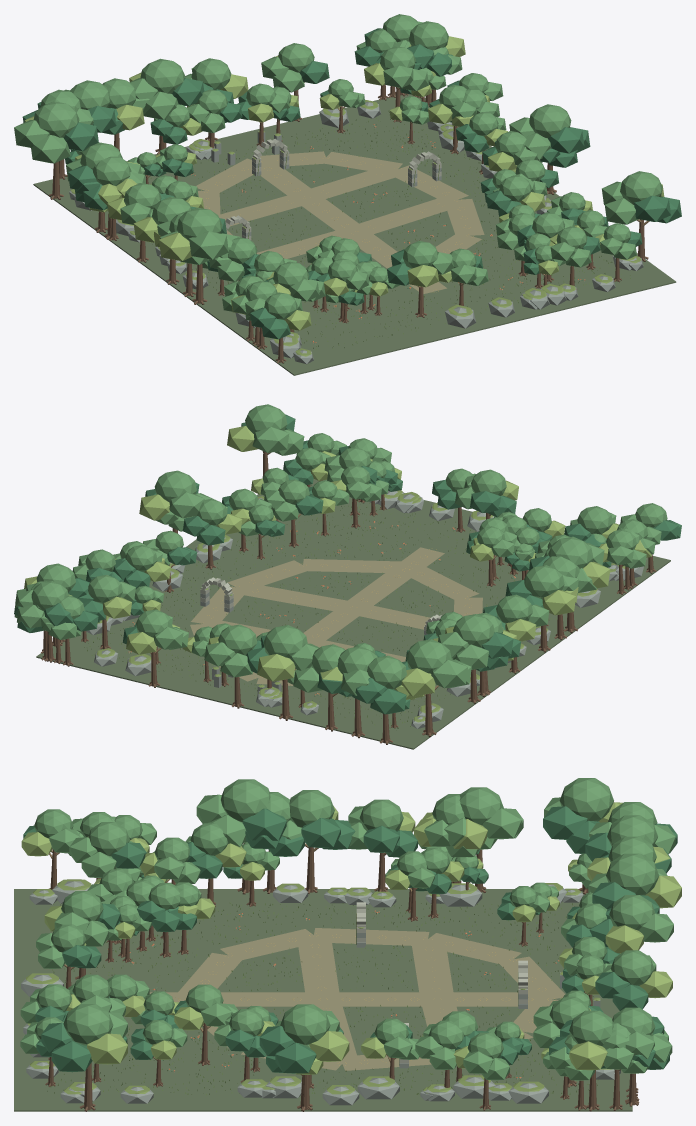
Rendered from forest-arena.glb.
3 views of the same model, one above another, from view 1: azimuth 30°, elevation 25°; view 2: azimuth 150°, elevation 25°; view 3: azimuth 270°, elevation 25° (orthographic). The views are drawn at different scales.
Parts seen in each view (by area): view 1: Woodland_leaves, Woodland_earth, Woodland_leaves_dark, Woodland_path, Woodland_leaves_sun, Woodland_stone, Woodland_bark, Woodland_moss, Woodland_grass, Woodland_stone_light; view 2: Woodland_leaves, Woodland_earth, Woodland_leaves_dark, Woodland_path, Woodland_leaves_sun, Woodland_bark, Woodland_stone, Woodland_moss, Woodland_grass, Woodland_stone_light; view 3: Woodland_leaves, Woodland_earth, Woodland_leaves_dark, Woodland_path, Woodland_leaves_sun, Woodland_stone, Woodland_bark, Woodland_moss, Woodland_grass, Woodland_stone_light.
Boxes of the visible parts, bbox=[...] form: Woodland_leaves: bbox=[14, 14, 662, 320]; Woodland_earth: bbox=[33, 94, 676, 375]; Woodland_leaves_dark: bbox=[22, 28, 681, 339]; Woodland_path: bbox=[196, 151, 484, 293]; Woodland_leaves_sun: bbox=[24, 36, 664, 330]; Woodland_stone: bbox=[69, 101, 643, 364]; Woodland_bark: bbox=[48, 85, 648, 363]; Woodland_moss: bbox=[71, 100, 641, 356]; Woodland_grass: bbox=[148, 110, 630, 349]; Woodland_stone_light: bbox=[225, 138, 441, 239]; Woodland_leaves: bbox=[14, 404, 667, 695]; Woodland_earth: bbox=[36, 474, 670, 749]; Woodland_leaves_dark: bbox=[14, 414, 681, 714]; Woodland_path: bbox=[190, 547, 482, 685]; Woodland_leaves_sun: bbox=[24, 426, 651, 699]; Woodland_bark: bbox=[41, 451, 656, 744]; Woodland_stone: bbox=[86, 491, 646, 728]; Woodland_moss: bbox=[96, 490, 625, 722]; Woodland_grass: bbox=[84, 485, 556, 730]; Woodland_stone_light: bbox=[200, 577, 441, 635]; Woodland_leaves: bbox=[20, 778, 675, 1080]; Woodland_earth: bbox=[14, 889, 632, 1111]; Woodland_leaves_dark: bbox=[23, 806, 677, 1073]; Woodland_path: bbox=[149, 928, 564, 1070]; Woodland_leaves_sun: bbox=[21, 802, 681, 1074]; Woodland_stone: bbox=[21, 881, 620, 1105]; Woodland_bark: bbox=[45, 847, 639, 1111]; Woodland_moss: bbox=[26, 879, 611, 1094]; Woodland_grass: bbox=[47, 902, 598, 1095]; Woodland_stone_light: bbox=[356, 902, 527, 1063].
Bounding box in the file's own units: 129 × 26.81 × 140.
